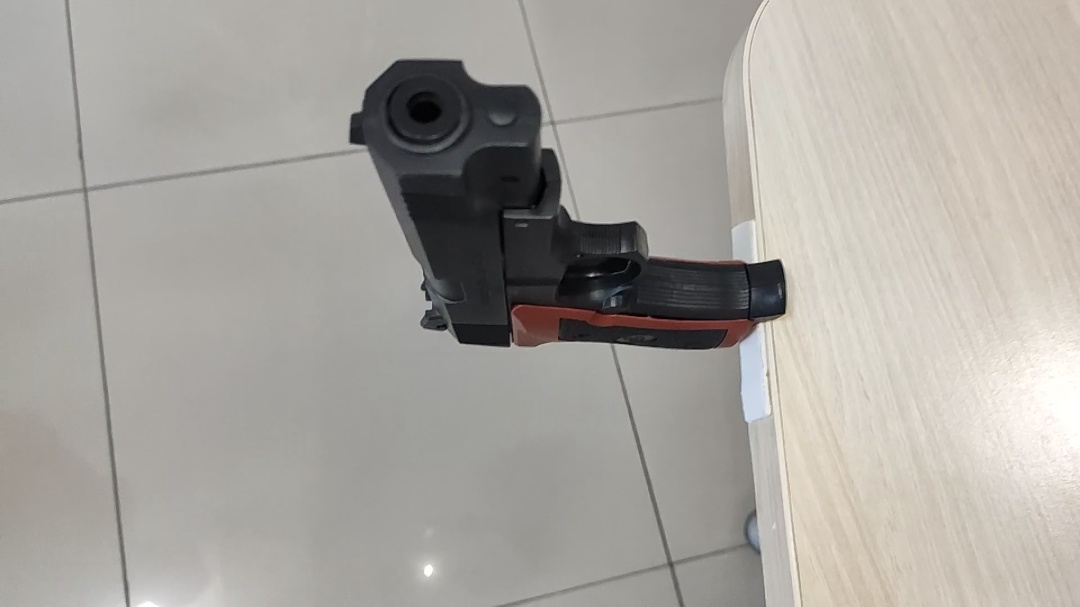gun: (345, 54, 790, 353)
